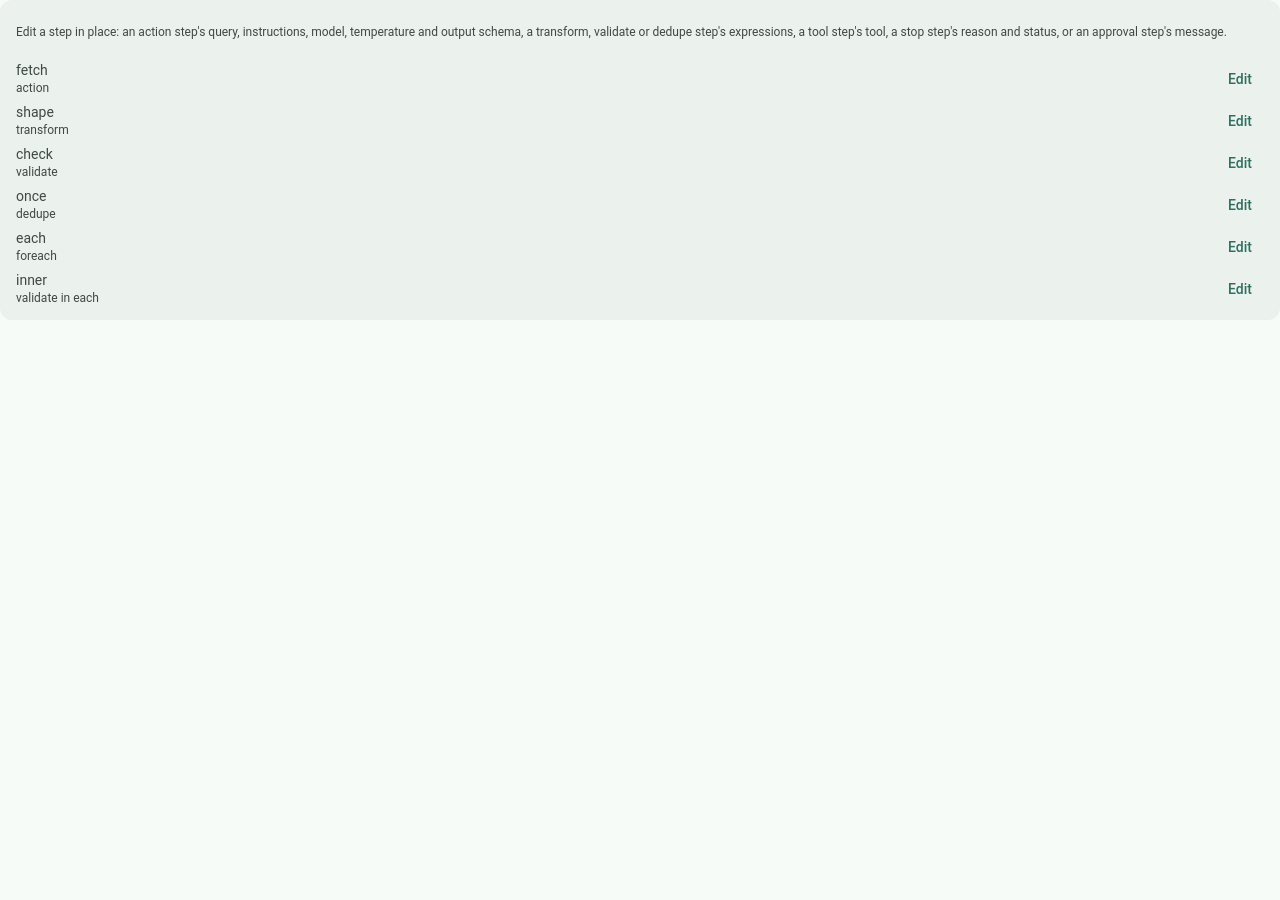
Test: StepsPanel › data steps (KAM-152) › saves validate and dedupe edits
The image size is (1280, 900).
Click the button with aria-label "Edit check" at (1240, 163), box [1216,145,1264,181]
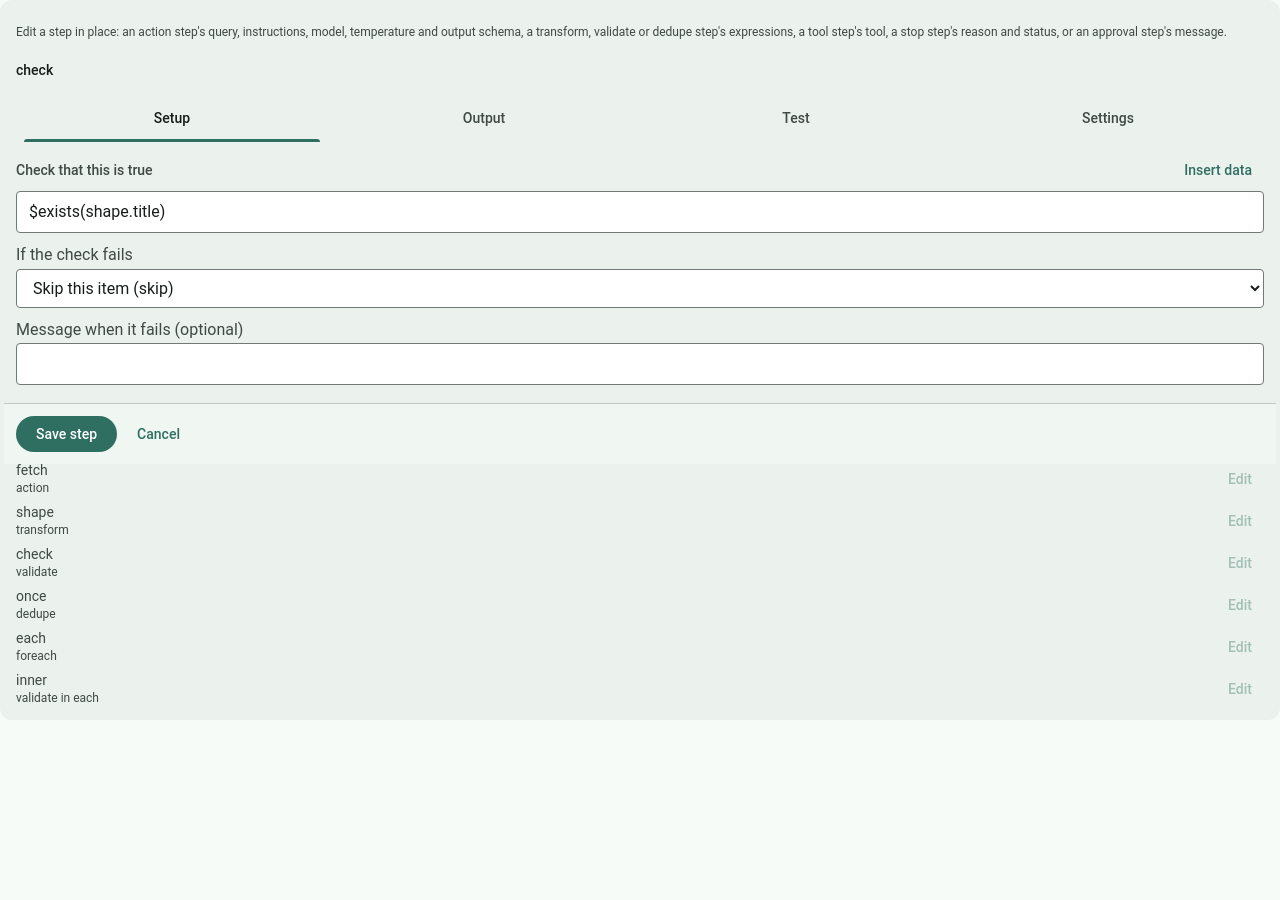
Replace the text in the dropdown labelled "Check that this is true" with "$exists(shape.title) and true" at (640, 212), box [16,191,1264,233]
Select "Stop the run (fail)" in the dropdown labelled "If the check fails" at (640, 288), box [16,269,1264,308]
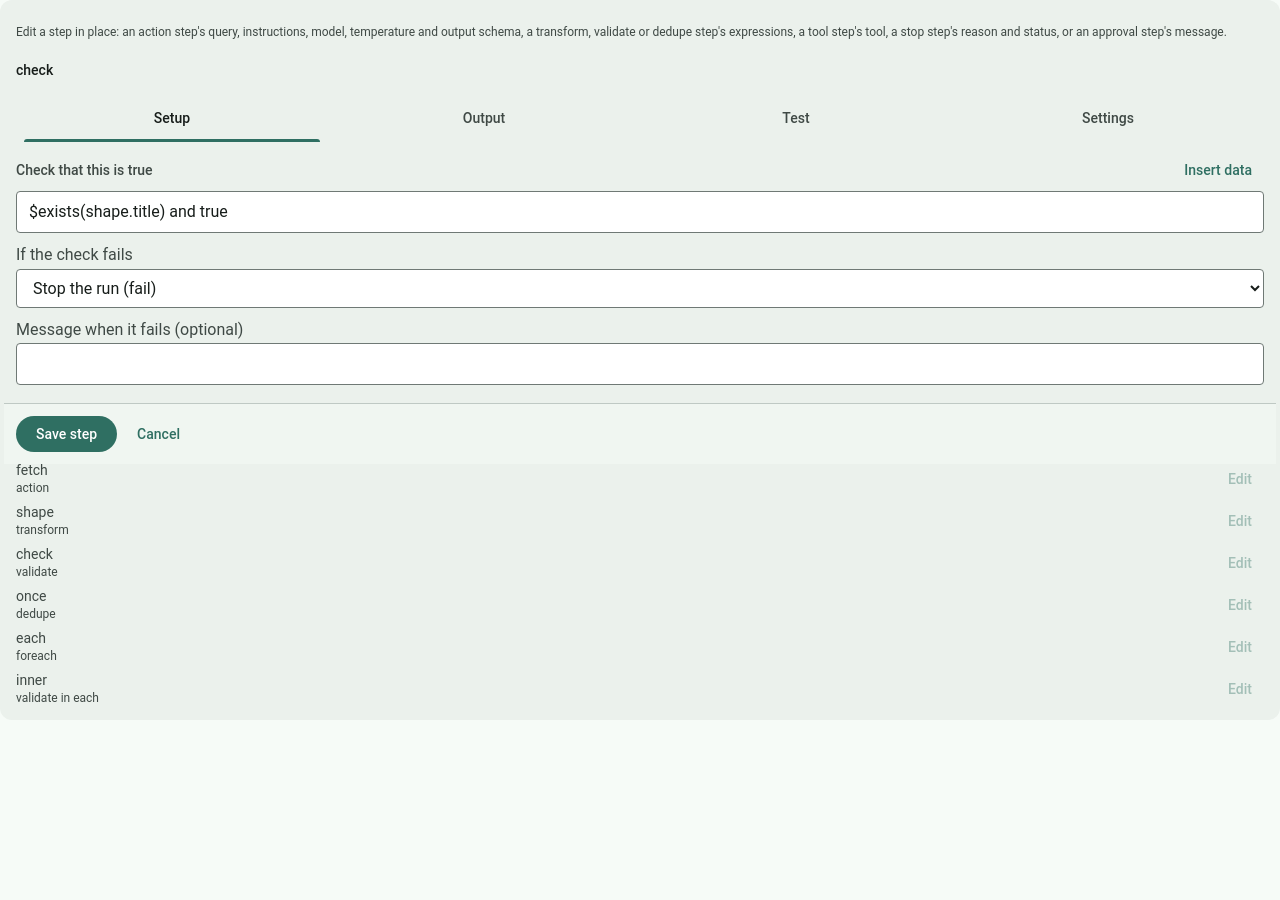
Click the button "Save step" at (67, 434), box [16,416,117,452]
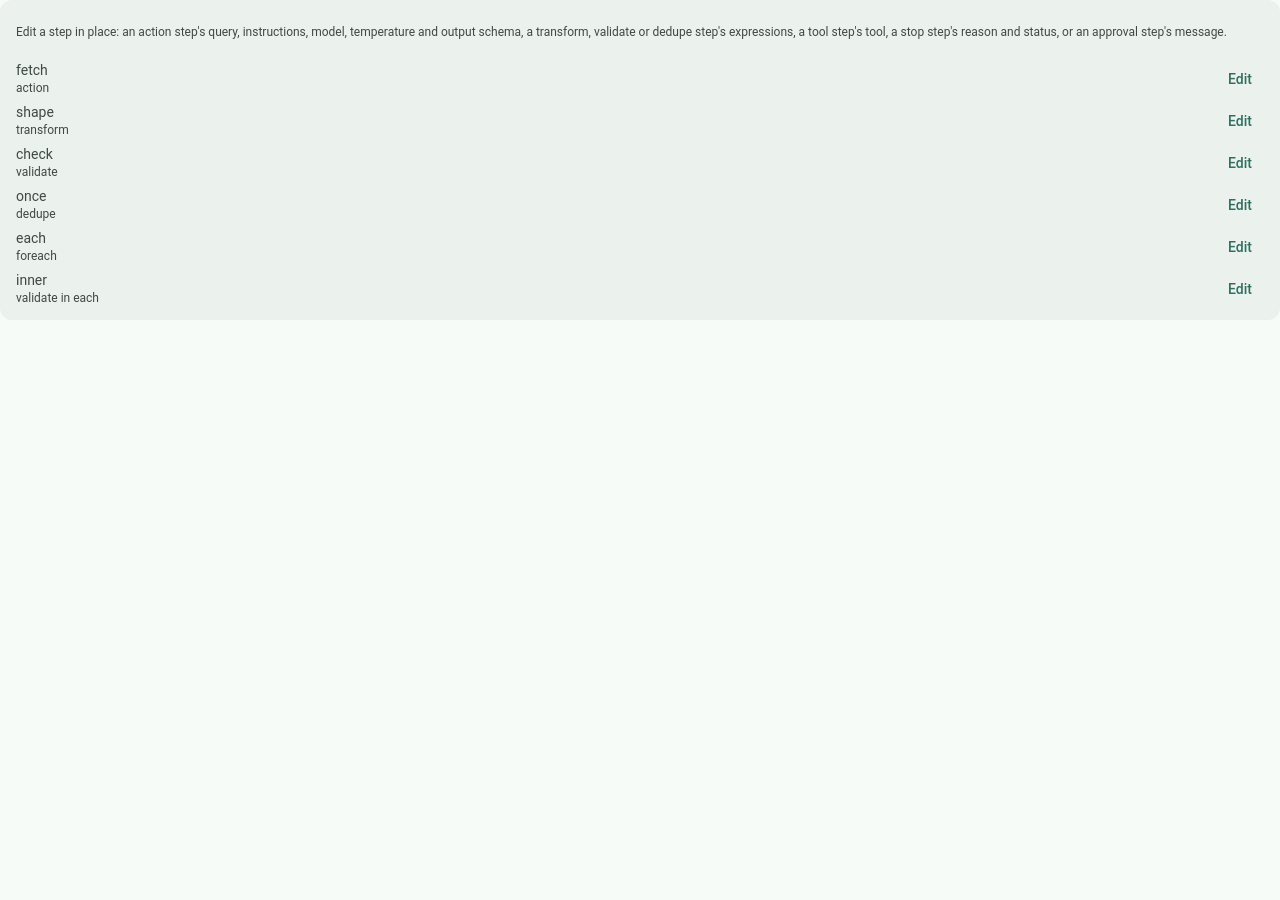
Click the button with aria-label "Edit once" at (1240, 205), box [1216,187,1264,223]
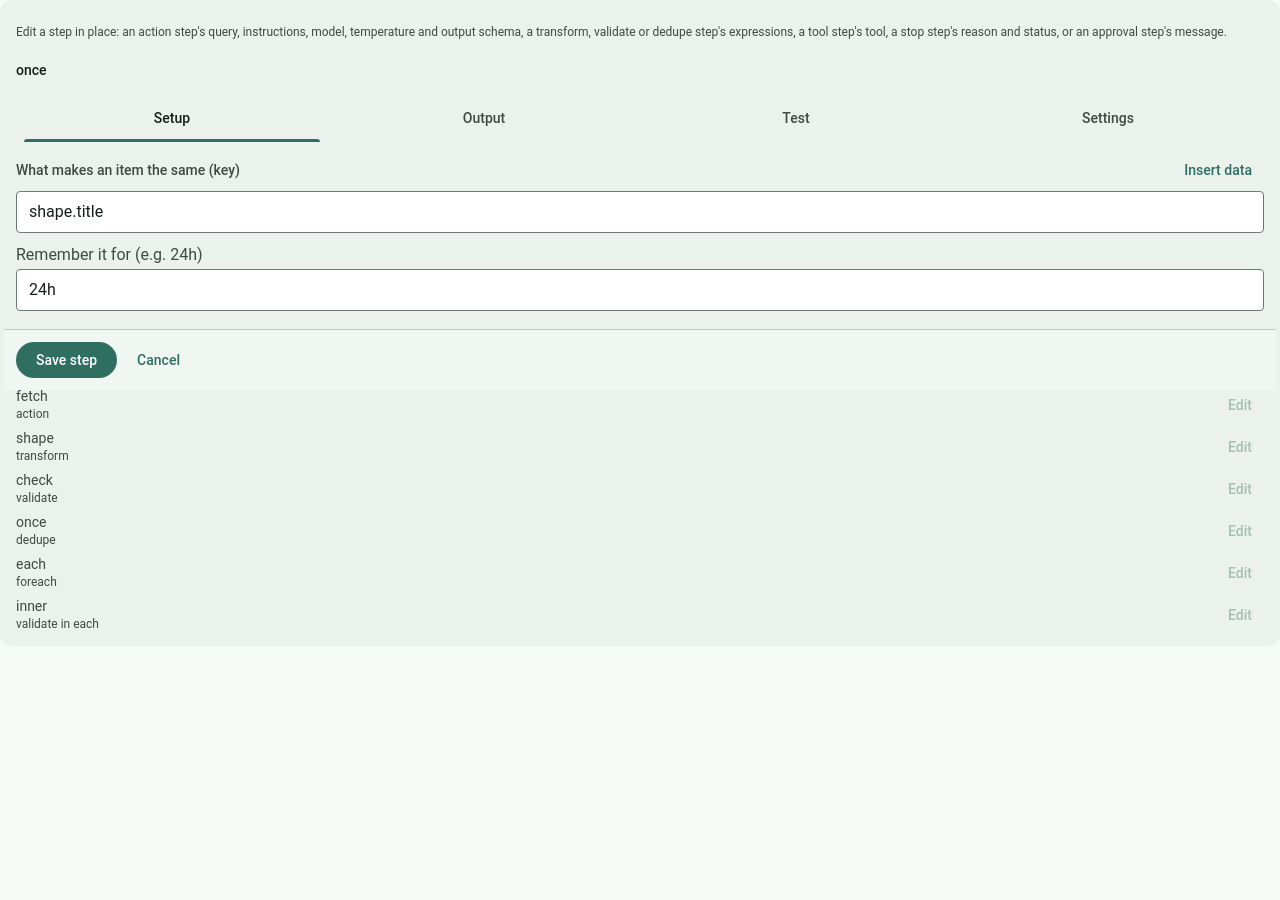
Replace the text in the field labelled "Remember it for (e.g. 24h)" with "soon" at (640, 290), box [16,269,1264,311]
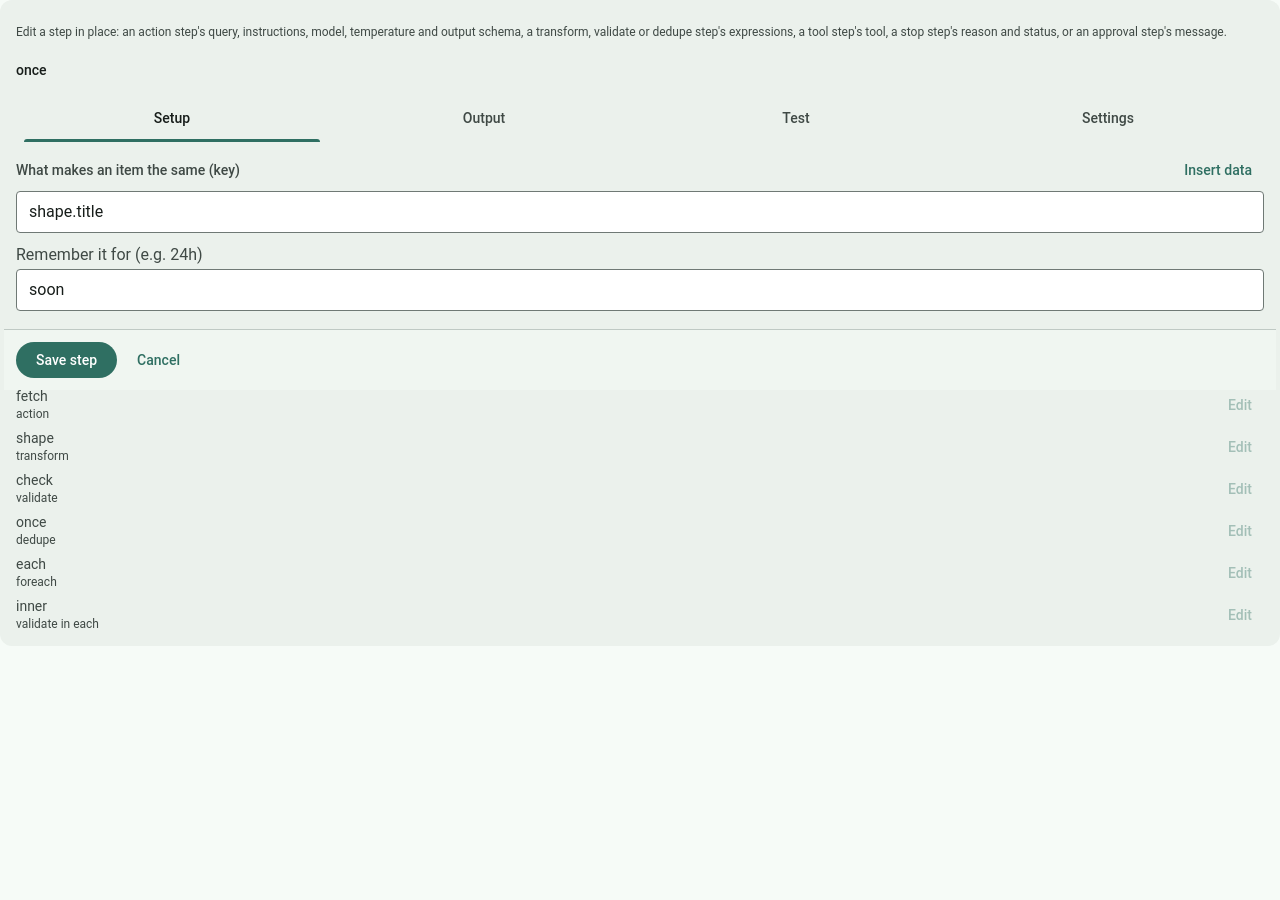
Click the button "Save step" at (67, 360), box [16,342,117,378]
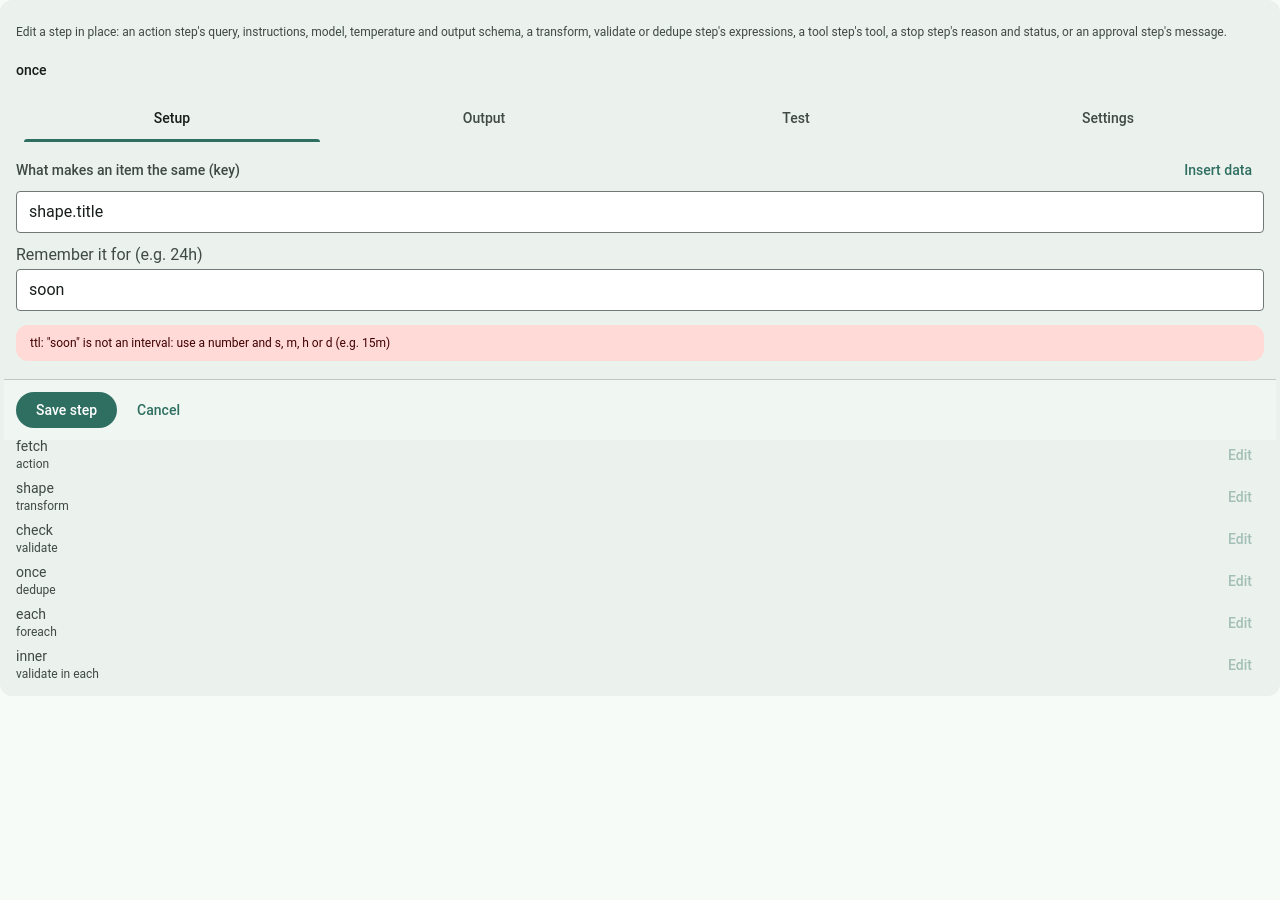
Expected: the message shows "ttl:", [30,336,390,350]
